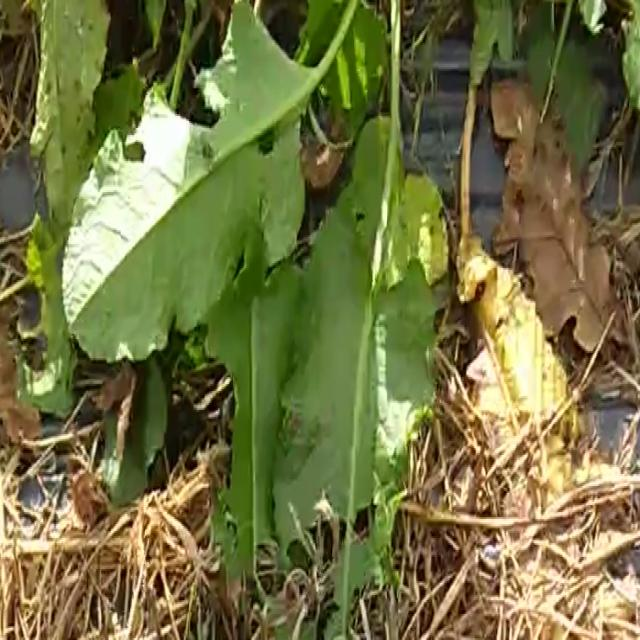organic waste: (43, 0, 480, 630), (429, 0, 640, 232)
